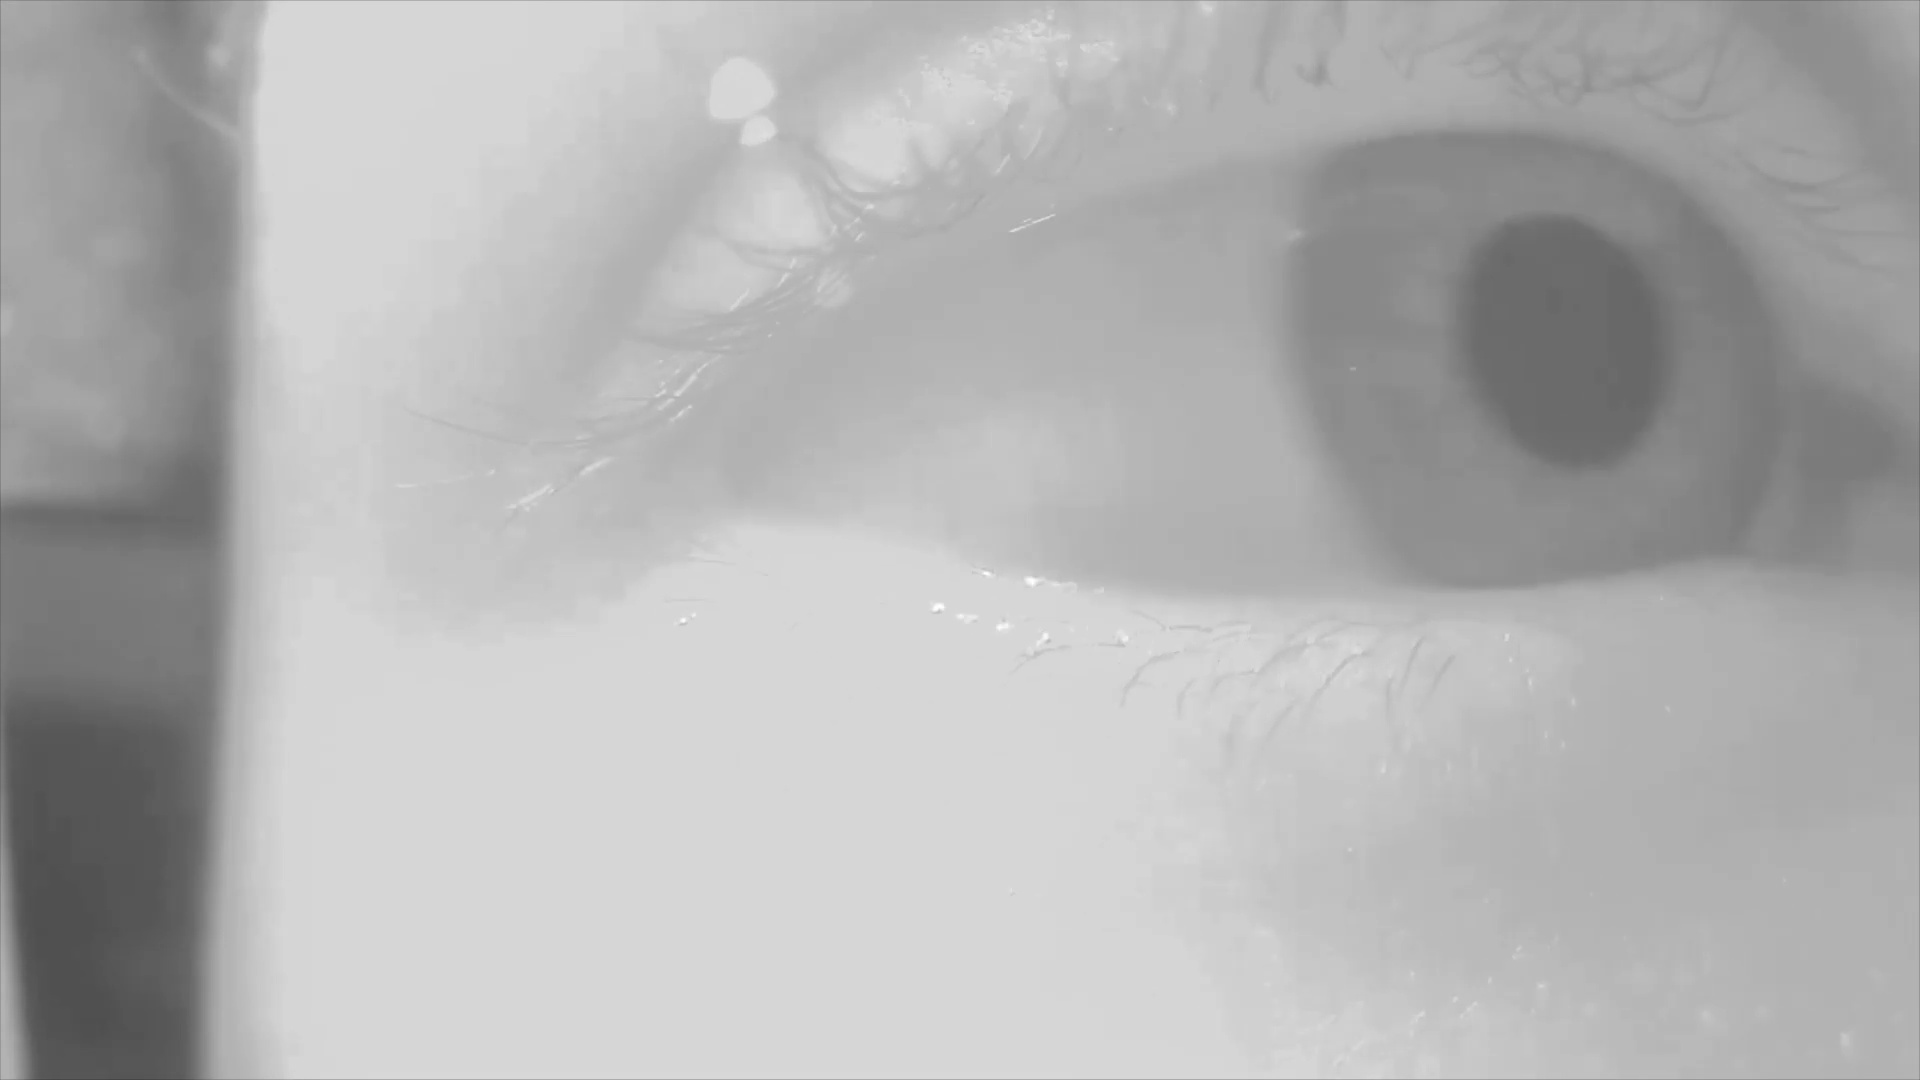pupil: (1461, 214, 1670, 464)
